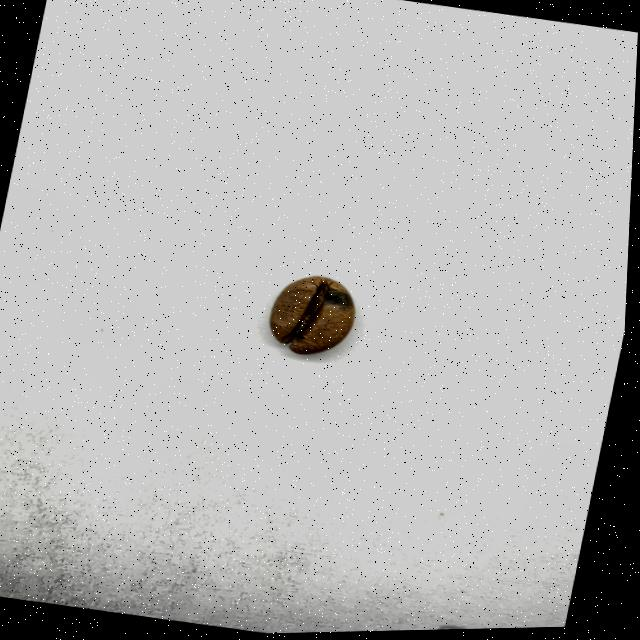Insect damage: (265, 271, 365, 363)
